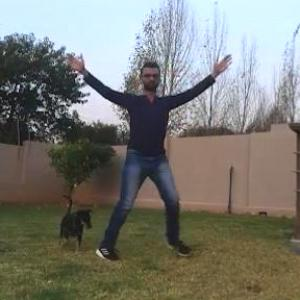takeoff: (44, 59, 192, 262)
